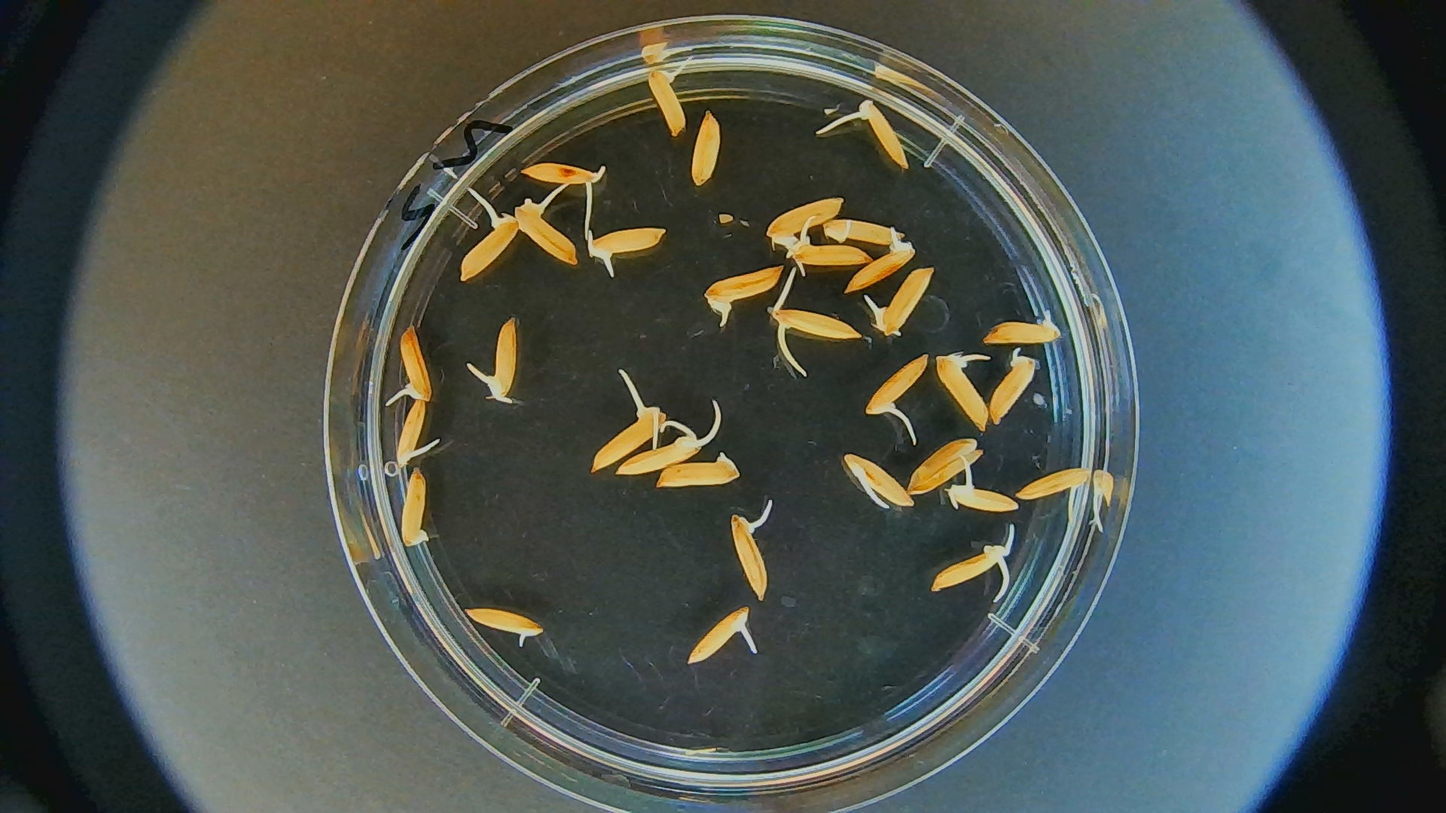no: (909, 440, 982, 492), (657, 449, 744, 489), (684, 107, 728, 186), (398, 466, 435, 548), (515, 158, 606, 189)
yes: (587, 405, 662, 471), (517, 202, 586, 269), (767, 190, 845, 249), (933, 354, 991, 433), (840, 234, 915, 294), (868, 349, 929, 422), (730, 513, 778, 601), (459, 217, 520, 284), (877, 263, 932, 336), (842, 454, 913, 510), (617, 431, 700, 477), (687, 607, 752, 665), (929, 542, 1007, 590), (988, 354, 1037, 429), (485, 316, 527, 400), (705, 265, 784, 308), (856, 99, 906, 166), (394, 323, 435, 404), (981, 311, 1062, 352), (583, 226, 667, 264), (639, 69, 688, 134), (770, 308, 860, 343), (392, 394, 432, 471), (819, 215, 909, 247), (951, 480, 1017, 521), (462, 609, 541, 642), (789, 239, 871, 269), (1017, 468, 1088, 502)
